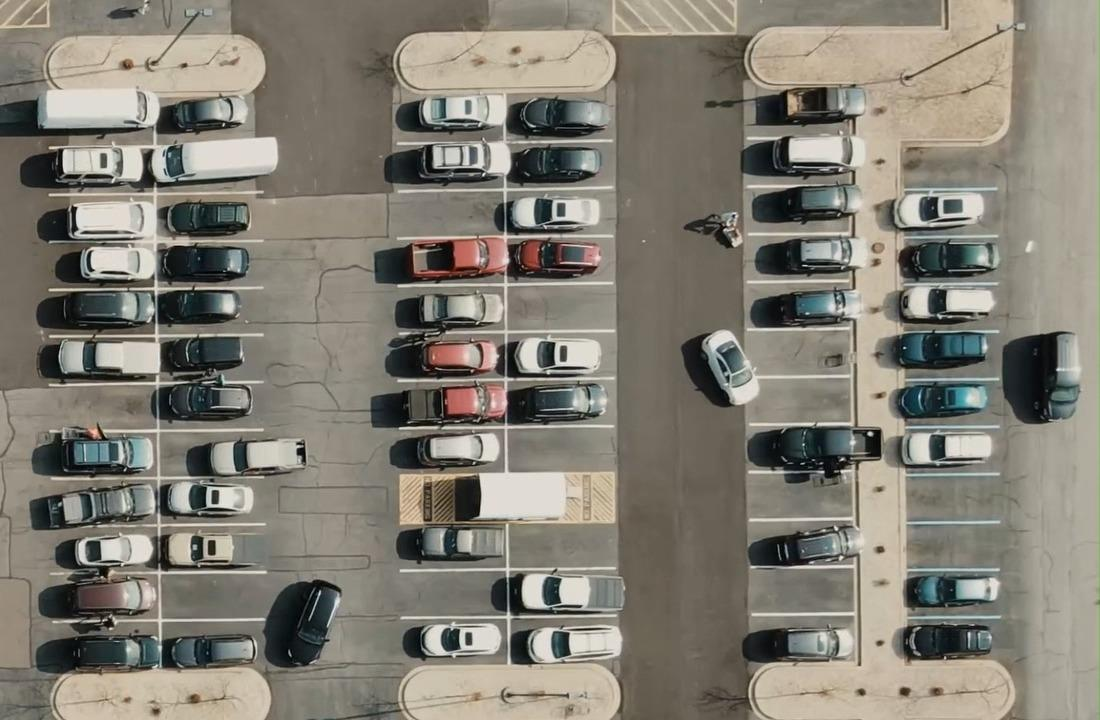car: (746, 422, 882, 486), (147, 136, 279, 184), (35, 87, 160, 131), (747, 522, 864, 566), (45, 482, 155, 528), (185, 436, 307, 477), (510, 570, 625, 613), (404, 235, 510, 280), (699, 328, 760, 406), (400, 382, 507, 426), (510, 623, 622, 664), (741, 624, 854, 663), (752, 183, 862, 223), (394, 93, 499, 133), (48, 143, 145, 186), (493, 195, 599, 233), (898, 239, 1000, 278), (514, 95, 611, 136), (64, 573, 156, 616), (771, 133, 865, 175), (160, 379, 252, 421), (898, 284, 996, 323), (515, 382, 608, 423), (508, 144, 602, 184), (892, 189, 985, 229), (511, 237, 601, 278), (61, 289, 155, 328), (894, 330, 989, 368), (66, 199, 154, 240), (512, 336, 602, 376), (417, 138, 496, 183), (161, 479, 254, 517), (159, 243, 249, 282), (900, 429, 992, 467), (776, 287, 862, 326), (895, 382, 988, 418), (903, 622, 993, 659), (415, 525, 504, 562), (417, 338, 500, 377), (781, 85, 866, 123), (416, 621, 501, 658), (163, 200, 250, 236), (157, 288, 241, 325), (163, 334, 244, 372), (73, 531, 155, 568), (171, 94, 248, 133), (78, 245, 155, 283), (913, 573, 999, 607), (415, 432, 496, 468)
